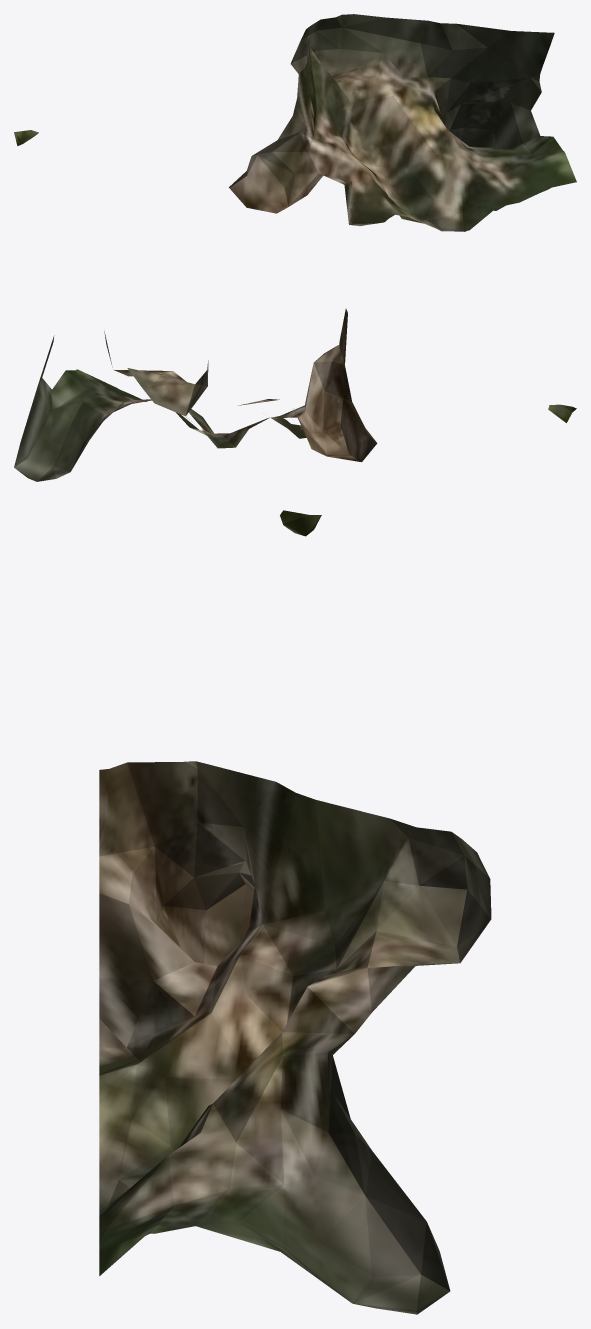
3 views of the same model, one above another, from view 1: azimuth 30°, elevation 25°; view 2: azimuth 150°, elevation 25°; view 3: azimuth 270°, elevation 25° (orthographic). The views are drawn at different scales.
Bounding box in the file's own units: 2.06 × 0.6313 × 0.6841.
1 material, 1 textured.
